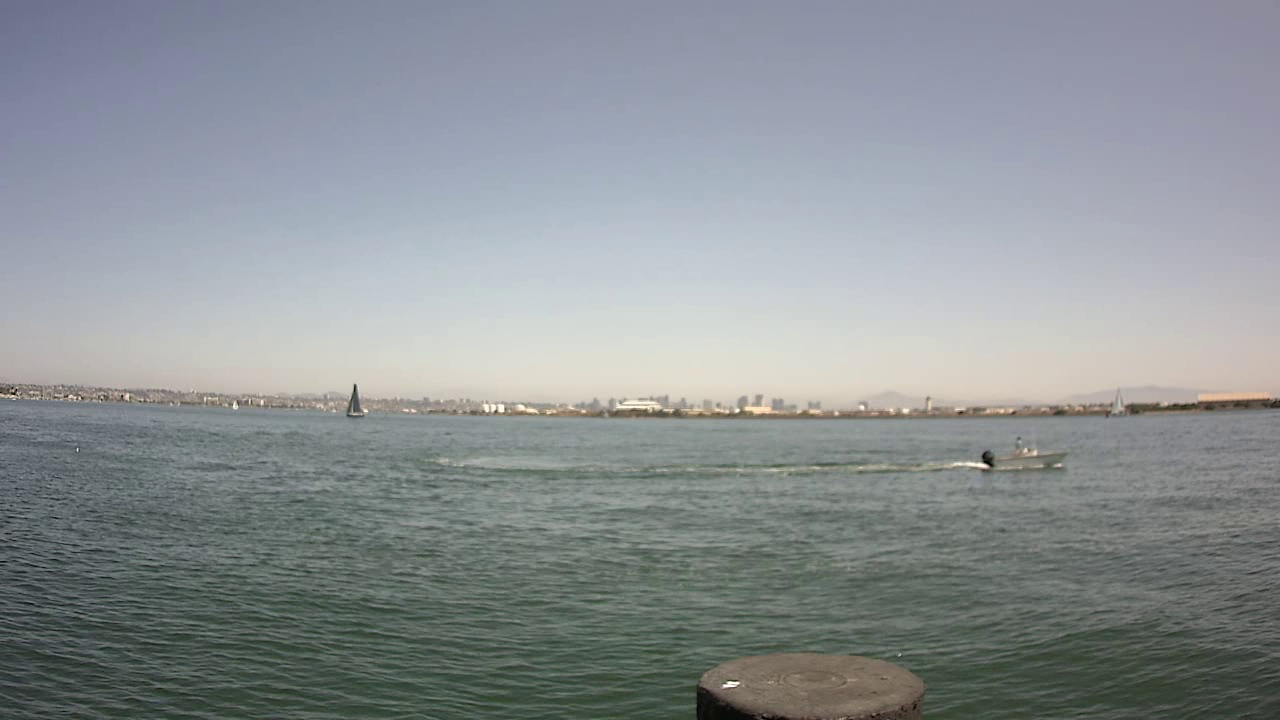target: (974, 420, 1082, 482)
